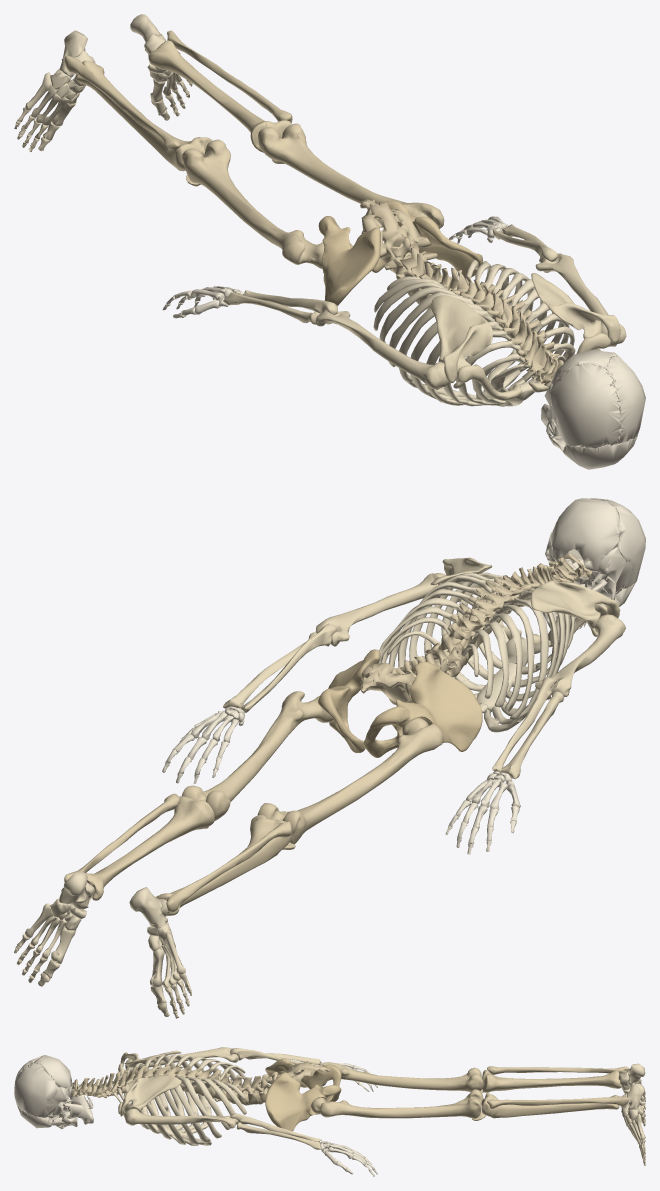
File: esqueleto.glb
The picture shows the model from 3 angles, top to bottom: view 1: azimuth 30°, elevation 25°; view 2: azimuth 150°, elevation 25°; view 3: azimuth 270°, elevation 25°; orthographic projection. The views are drawn at different scales.
Parts seen in each view (by area): view 1: piernas, brazos, costillas, craneo, columna, pies, pelvis, manos; view 2: piernas, costillas, brazos, pelvis, craneo, pies, columna, manos; view 3: piernas, brazos, costillas, craneo, columna, pelvis, pies, manos.
Part boxes in pixels (box(x1,y1,x2,y2)): piernas: box(64, 30, 444, 268); brazos: box(223, 224, 626, 400); costillas: box(373, 259, 575, 406); craneo: box(541, 349, 645, 469); columna: box(360, 199, 563, 386); pies: box(14, 14, 192, 151); pelvis: box(318, 200, 483, 305); manos: box(162, 216, 516, 318); piernas: box(64, 691, 443, 916); costillas: box(378, 572, 575, 732); brazos: box(223, 557, 625, 779); pelvis: box(318, 649, 482, 757); craneo: box(542, 498, 645, 629); pies: box(14, 871, 191, 1018); columna: box(360, 553, 591, 704); manos: box(162, 706, 520, 854); piernas: box(311, 1062, 628, 1120); brazos: box(118, 1047, 321, 1149); costillas: box(112, 1054, 246, 1145); craneo: box(14, 1055, 93, 1129); columna: box(72, 1061, 329, 1105); pelvis: box(265, 1058, 341, 1131); pies: box(618, 1063, 645, 1165); manos: box(319, 1062, 377, 1176).
Size of the model in its own units: 648 by 253 by 1707.
